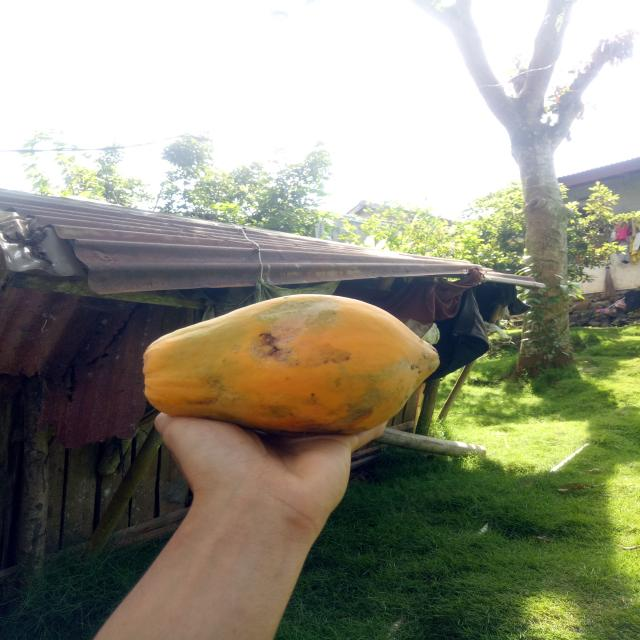Pepaya rippen: (127, 290, 448, 443)
